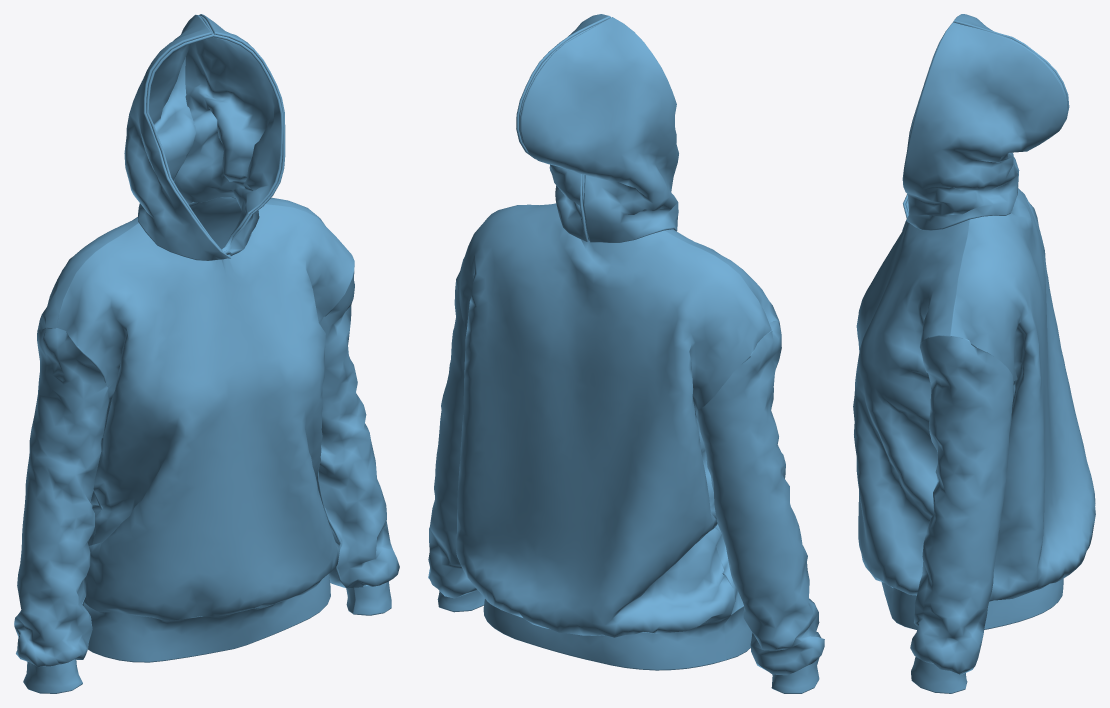
3 renders of one model, left to right at view 1: azimuth 30°, elevation 25°; view 2: azimuth 150°, elevation 25°; view 3: azimuth 270°, elevation 25°, orthographic. The views are drawn at different scales.
Visible parts, largest first — view 1: Pattern2D_96414, Pattern2D_94338, Pattern2D_3817911 (×2), Pattern2D_103204, Pattern2D_1315260 (×2), Pattern2D_3817910, Pattern2D_98031, Pattern2D_3742324, Pattern2D_3742323; view 2: Pattern2D_98031, Pattern2D_1315260, Pattern2D_94338, Pattern2D_3817910, Pattern2D_103204, Pattern2D_3817911, Pattern2D_96414, Pattern2D_3742324, Pattern2D_3742323; view 3: Pattern2D_98031, Pattern2D_96414, Pattern2D_103204, Pattern2D_3817911, Pattern2D_3817910, Pattern2D_3742323, Pattern2D_1315260.
Part boxes in pixels (x1,y1,x2,y2): Pattern2D_96414: [56, 204, 354, 620]; Pattern2D_94338: [14, 327, 108, 667]; Pattern2D_3817911 (×2): [174, 14, 285, 257]; Pattern2D_103204: [316, 261, 399, 588]; Pattern2D_1315260 (×2): [124, 14, 231, 260]; Pattern2D_3817910: [83, 574, 330, 662]; Pattern2D_98031: [37, 197, 325, 545]; Pattern2D_3742324: [23, 659, 82, 693]; Pattern2D_3742323: [346, 581, 391, 615]; Pattern2D_98031: [456, 203, 771, 637]; Pattern2D_1315260: [520, 17, 678, 242]; Pattern2D_94338: [696, 320, 824, 675]; Pattern2D_3817910: [483, 599, 752, 670]; Pattern2D_103204: [428, 280, 477, 598]; Pattern2D_3817911: [516, 14, 610, 241]; Pattern2D_96414: [527, 204, 779, 614]; Pattern2D_3742324: [771, 657, 819, 693]; Pattern2D_3742323: [437, 590, 484, 612]; Pattern2D_98031: [951, 188, 1095, 601]; Pattern2D_96414: [853, 219, 969, 595]; Pattern2D_103204: [910, 335, 1013, 675]; Pattern2D_3817911: [902, 22, 1067, 230]; Pattern2D_3817910: [881, 578, 1063, 629]; Pattern2D_3742323: [911, 656, 967, 693]; Pattern2D_1315260: [903, 14, 1069, 222].
Bounding box in the file's own units: 58.27 × 90.08 × 33.38.
